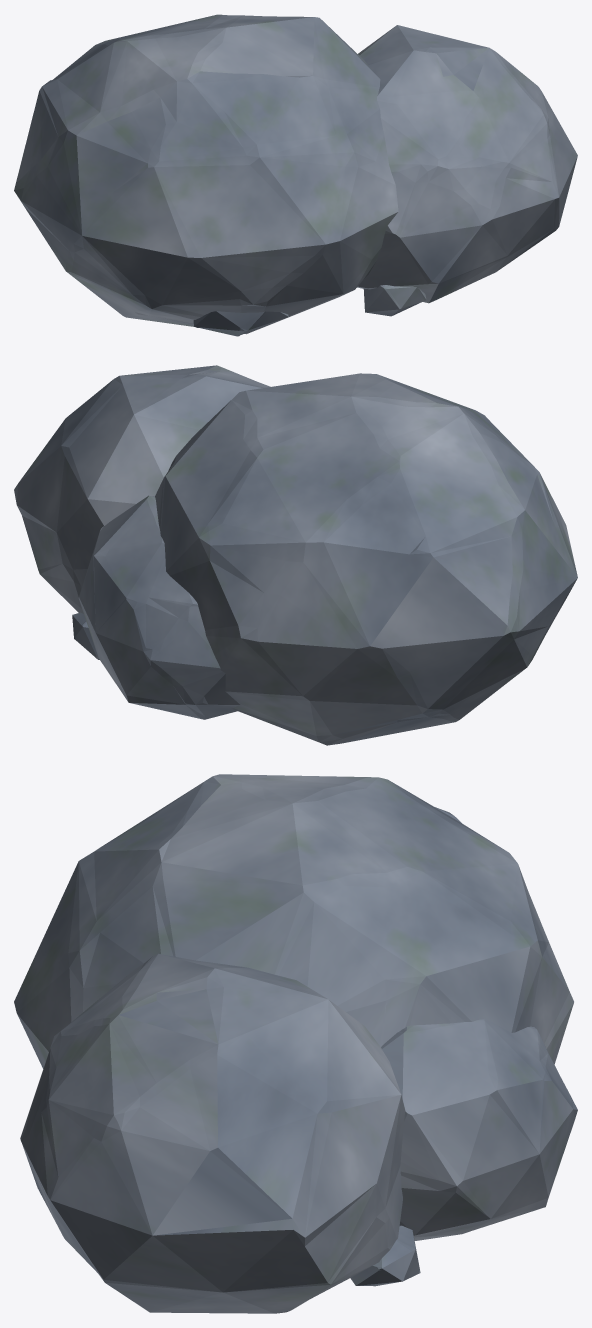
The model's file is Rock_05_Cluster.fbx.
3 views of the same model, one above another, from view 1: azimuth 30°, elevation 25°; view 2: azimuth 150°, elevation 25°; view 3: azimuth 270°, elevation 25° (orthographic). The views are drawn at different scales.
Visible parts, largest first — view 1: Rock_05_Cluster; view 2: Rock_05_Cluster; view 3: Rock_05_Cluster.
Part boxes in pixels (x1=…): Rock_05_Cluster: x1=14, y1=14, x2=577, y2=336; Rock_05_Cluster: x1=14, y1=365, x2=577, y2=745; Rock_05_Cluster: x1=14, y1=774, x2=577, y2=1313.
Size of the model in its own units: 3.06 by 1.7 by 2.22.
1 material, 1 textured.
